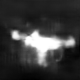plane: (10, 26, 76, 69)
